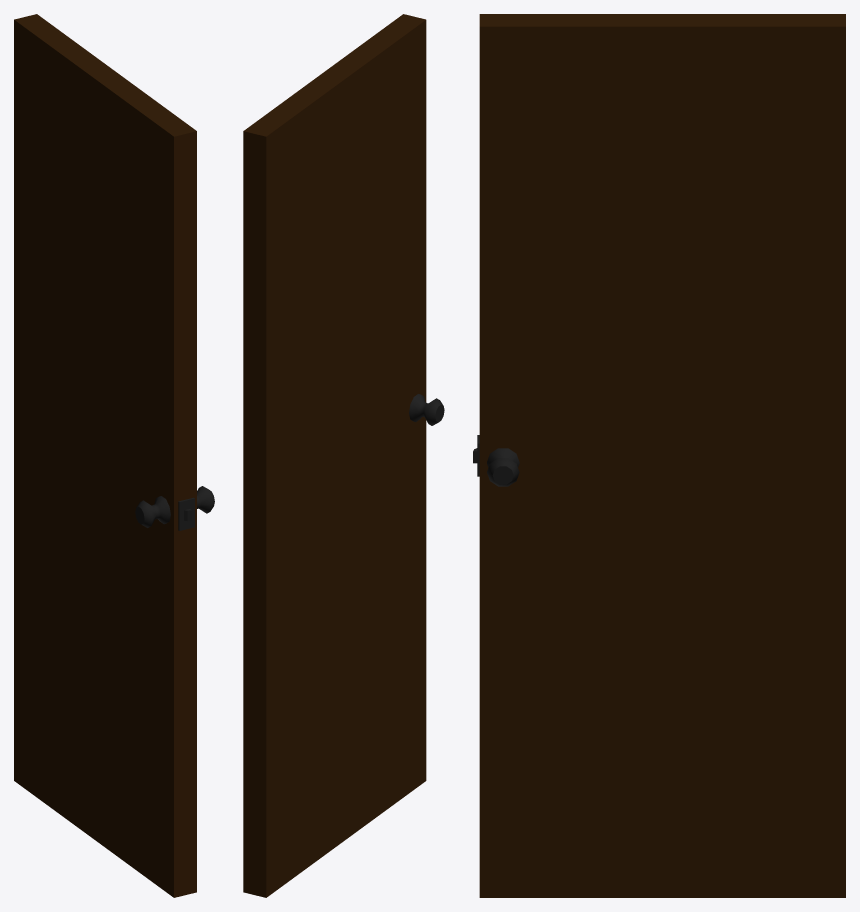
File: RE_CellDoor00.FBX
3 renders of one model, left to right at view 1: azimuth 30°, elevation 25°; view 2: azimuth 150°, elevation 25°; view 3: azimuth 270°, elevation 25°, orthographic. The views are drawn at different scales.
Parts seen in each view (by area): view 1: RE_CellDoor00; view 2: RE_CellDoor00; view 3: RE_CellDoor00.
Boxes of the visible parts, x1=… form: RE_CellDoor00: x1=14, y1=14, x2=214, y2=897; RE_CellDoor00: x1=243, y1=14, x2=444, y2=897; RE_CellDoor00: x1=473, y1=14, x2=845, y2=897.
Size of the model in its own units: 12.15 by 126 by 48.72.
